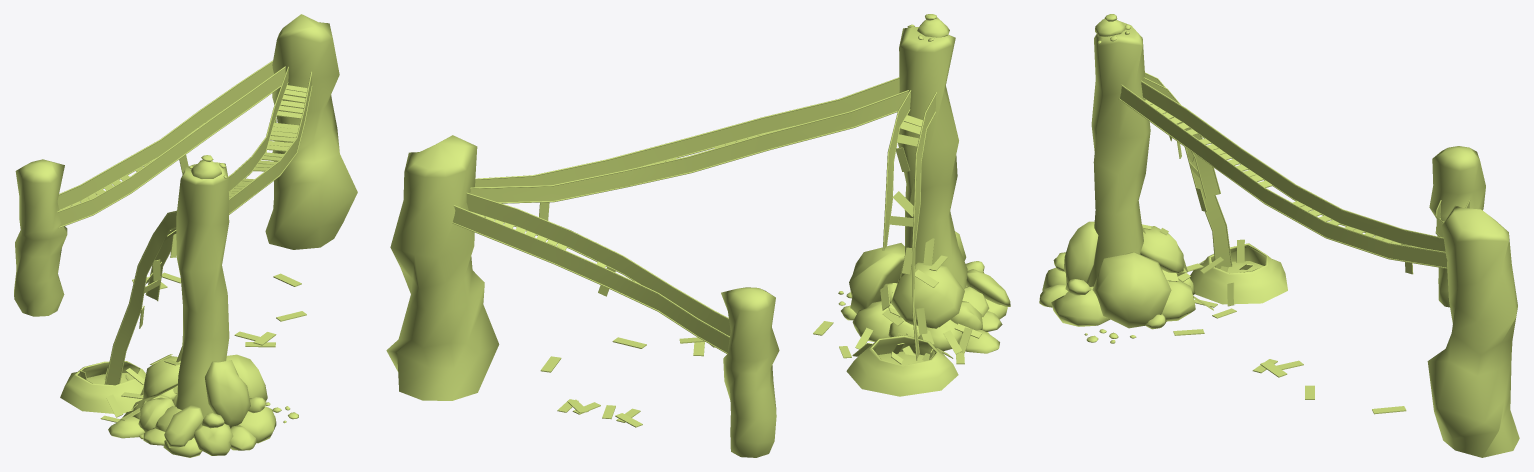
The model's file is Bridge_mesh.fbx.
3 views of the same model, side by side, from view 1: azimuth 30°, elevation 25°; view 2: azimuth 150°, elevation 25°; view 3: azimuth 270°, elevation 25° (orthographic). The views are drawn at different scales.
Parts seen in each view (by area): view 1: Bridge_mesh; view 2: Bridge_mesh; view 3: Bridge_mesh.
Part boxes in pixels (x1,y1,x2,y2): Bridge_mesh: (14,14,357,457); Bridge_mesh: (386,14,1010,457); Bridge_mesh: (1039,14,1519,457).
Size of the model in its own units: 33.18 by 22.4 by 33.84.
